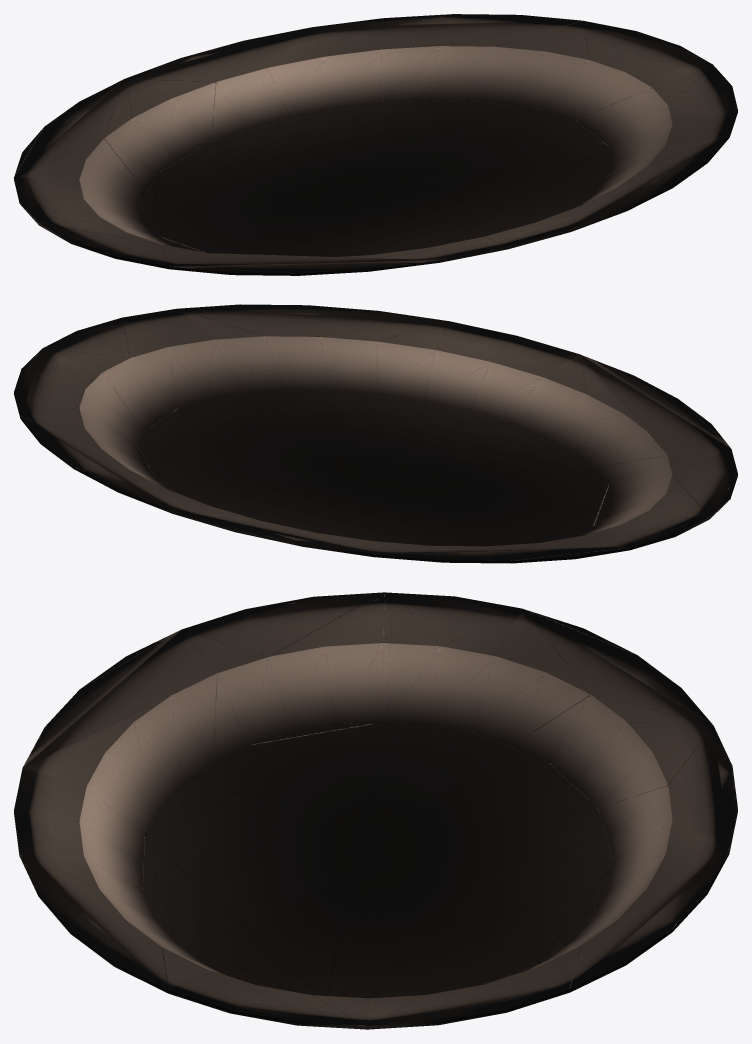
The model's file is stenless_plate4.glb.
3 views of the same model, one above another, from view 1: azimuth 30°, elevation 25°; view 2: azimuth 150°, elevation 25°; view 3: azimuth 270°, elevation 25° (orthographic). The views are drawn at different scales.
Visible parts, largest first — view 1: suテンレス; view 2: suテンレス; view 3: suテンレス.
Part boxes in pixels (x1=…): suテンレス: x1=14, y1=14, x2=737, y2=275; suテンレス: x1=14, y1=304, x2=737, y2=563; suテンレス: x1=14, y1=592, x2=737, y2=1029.
Bounding box in the file's own units: 28.01 × 1.8 × 19.77.
Materials: 1 (1 with a texture image).
